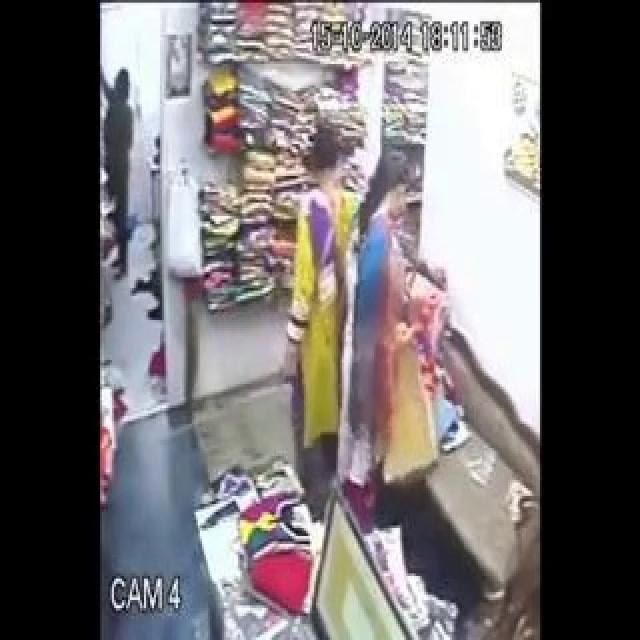Shoplifting: (350, 136, 446, 490)
